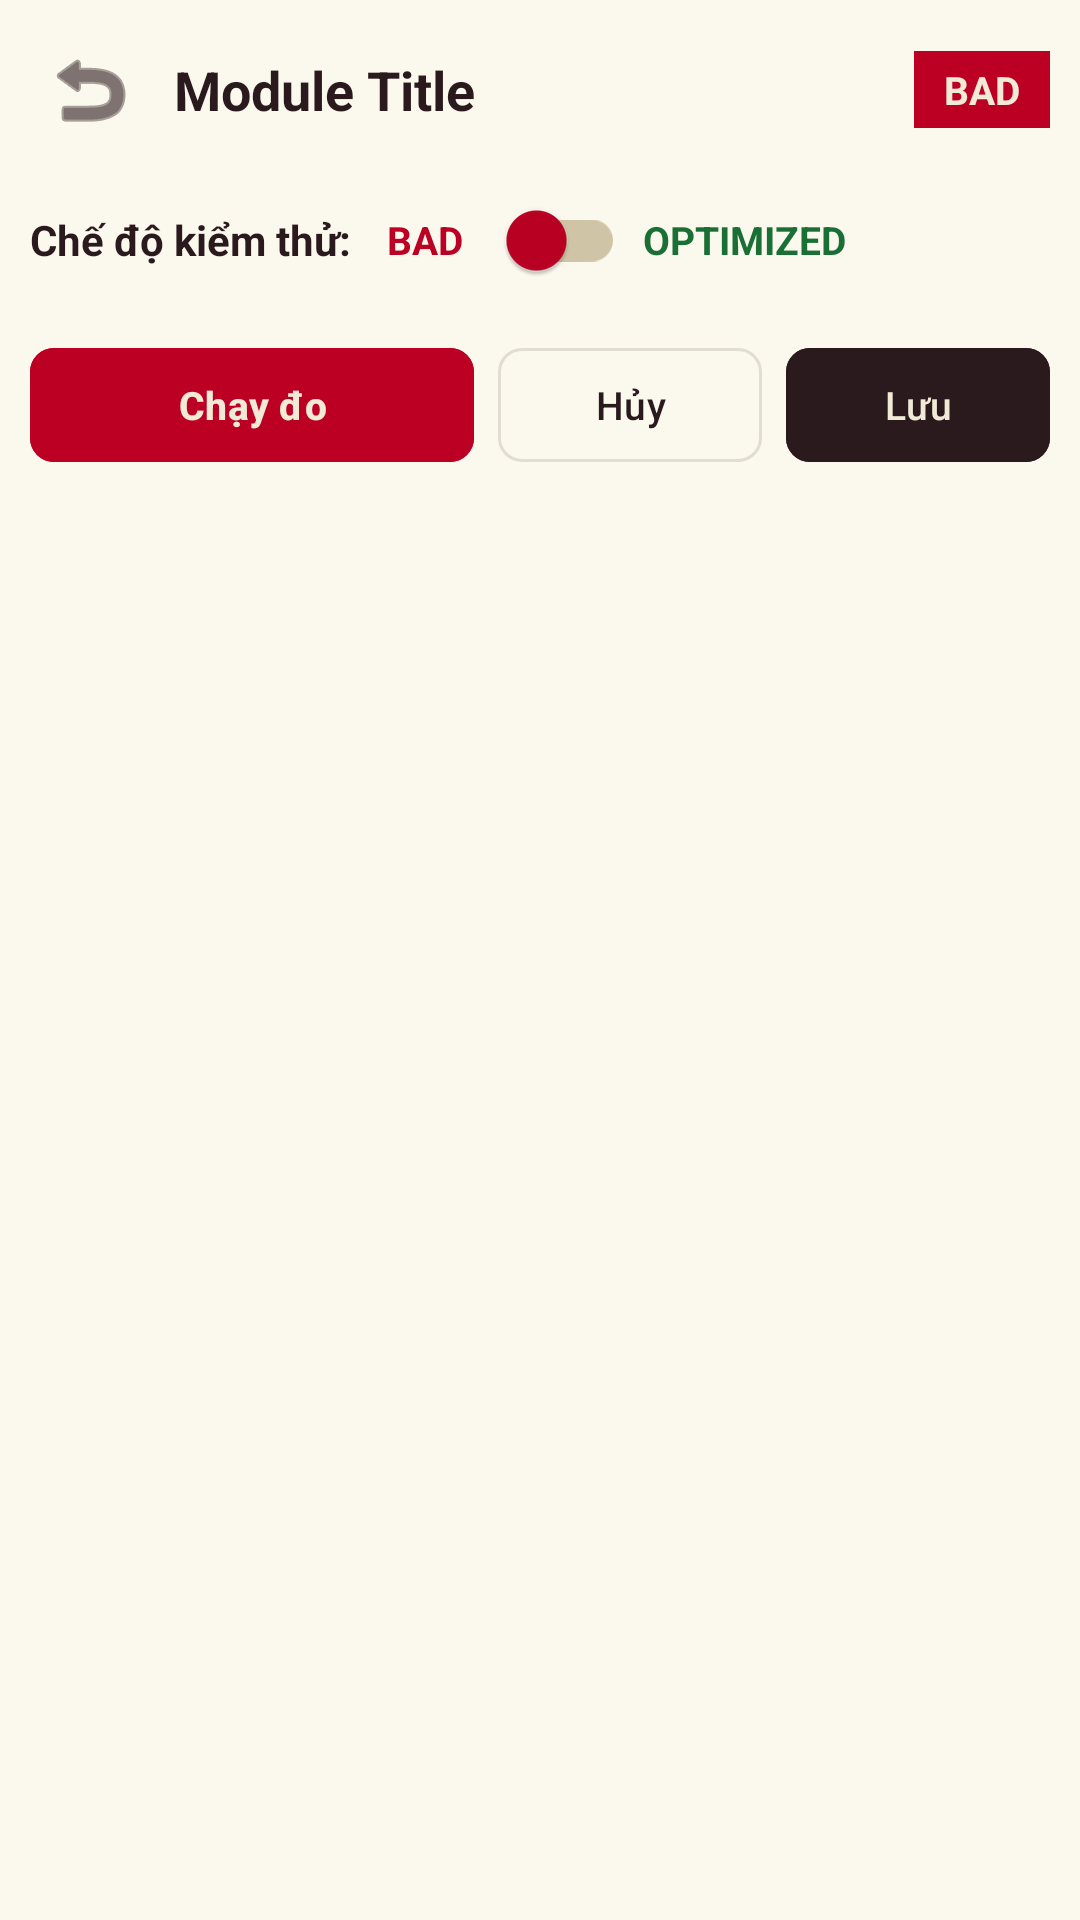

Screen size 1080w x 1920h. Icon name, then its center in pixels as (x,y):
Quay lại: (91,90)
